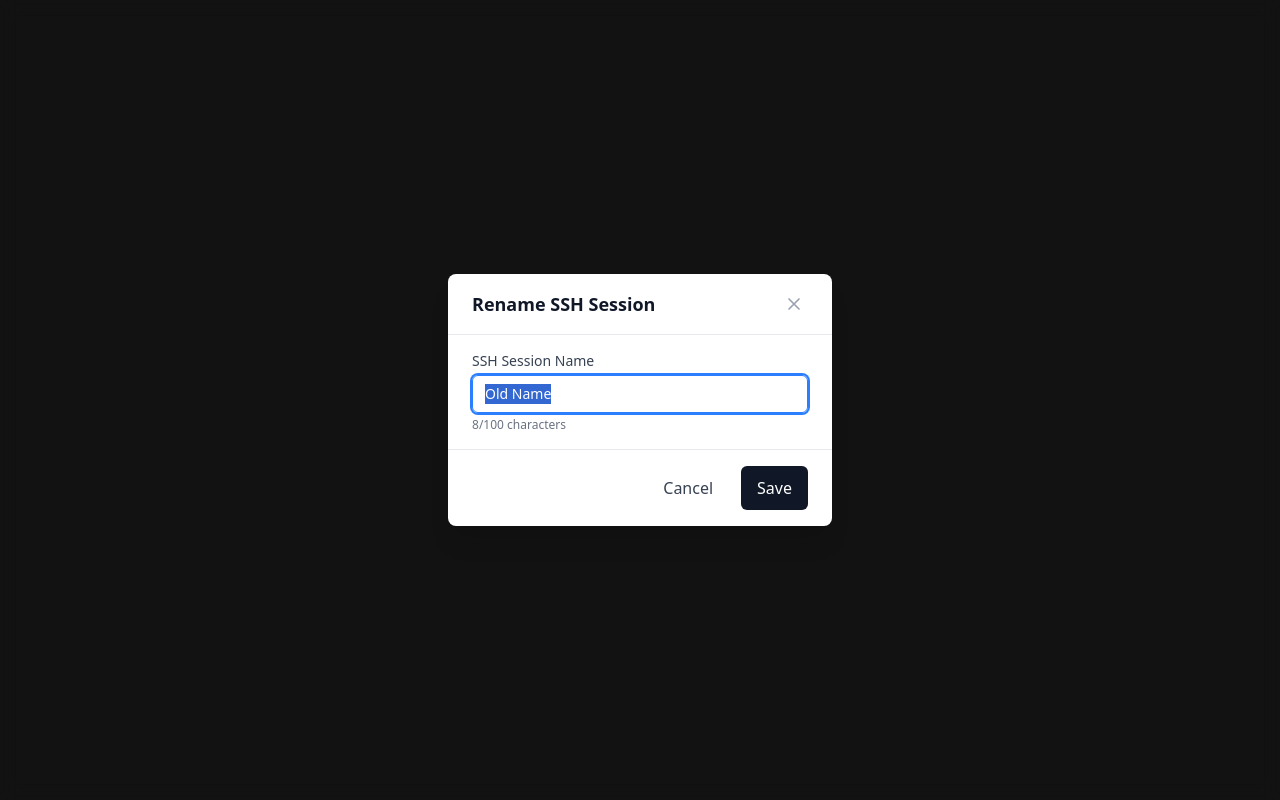
Test: RenameSshSessionModal › shows rename failures inline
Replace the text in the field labelled "SSH Session Name" with "New Name". click: (640, 394)
box: [472,375,808,413]
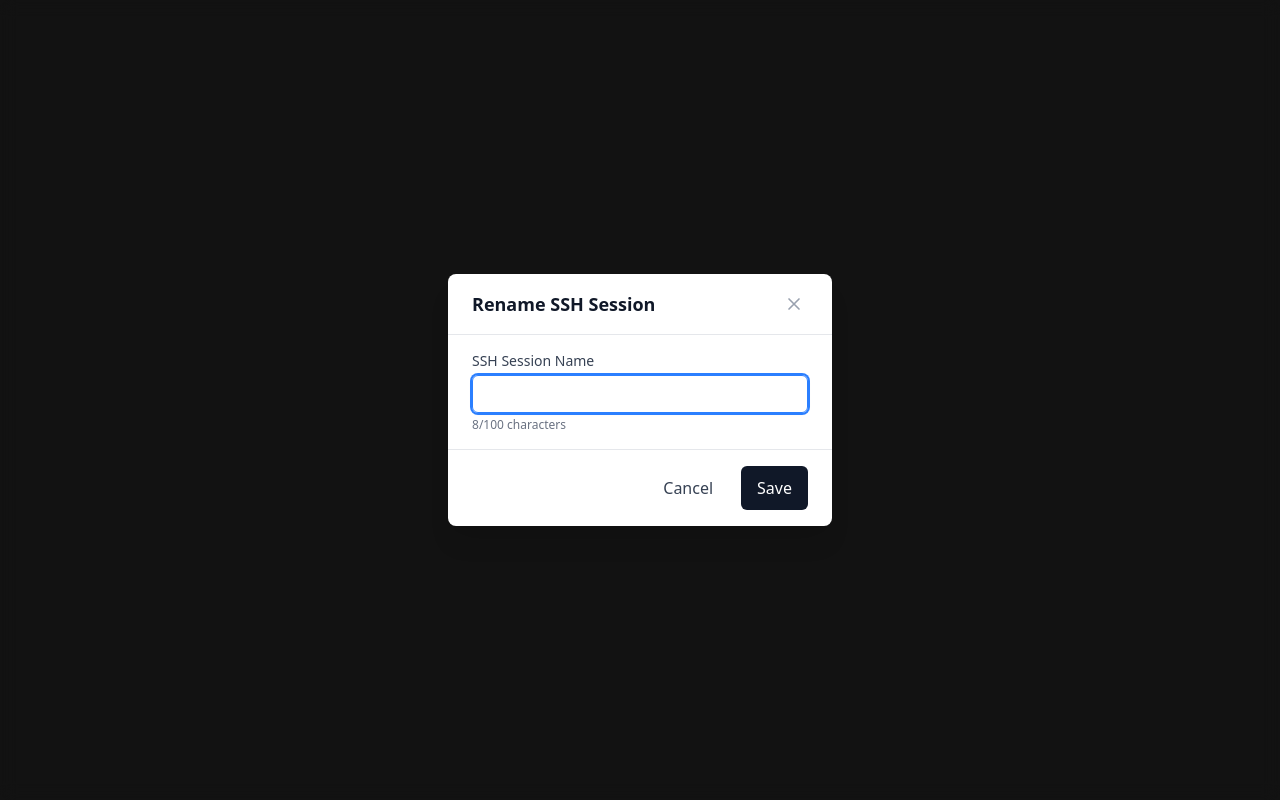
Click the button "Save". click: (775, 488)
box: [741,466,808,510]
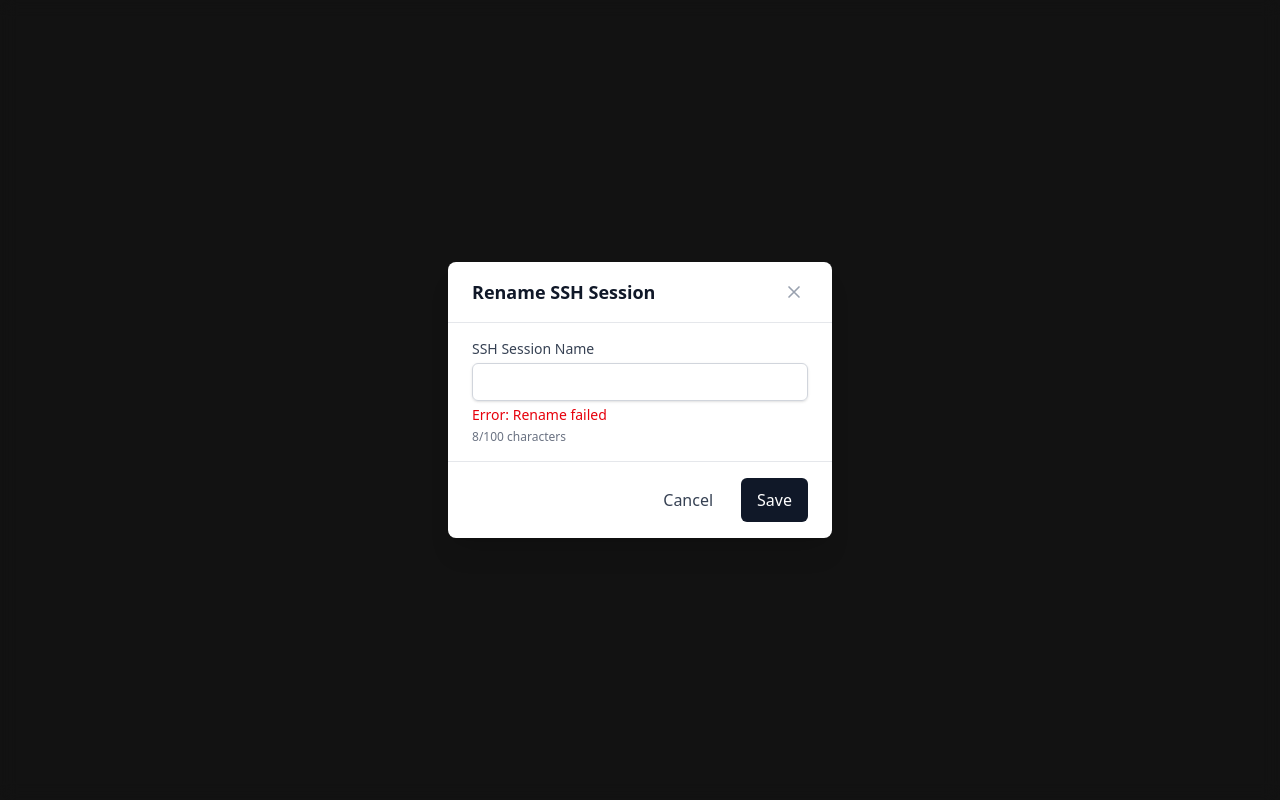
expect the text "Error: Rename failed" is shown: met, box [472,405,607,424]
